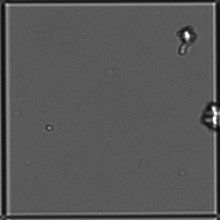Living Cell: (174, 22, 197, 53)
